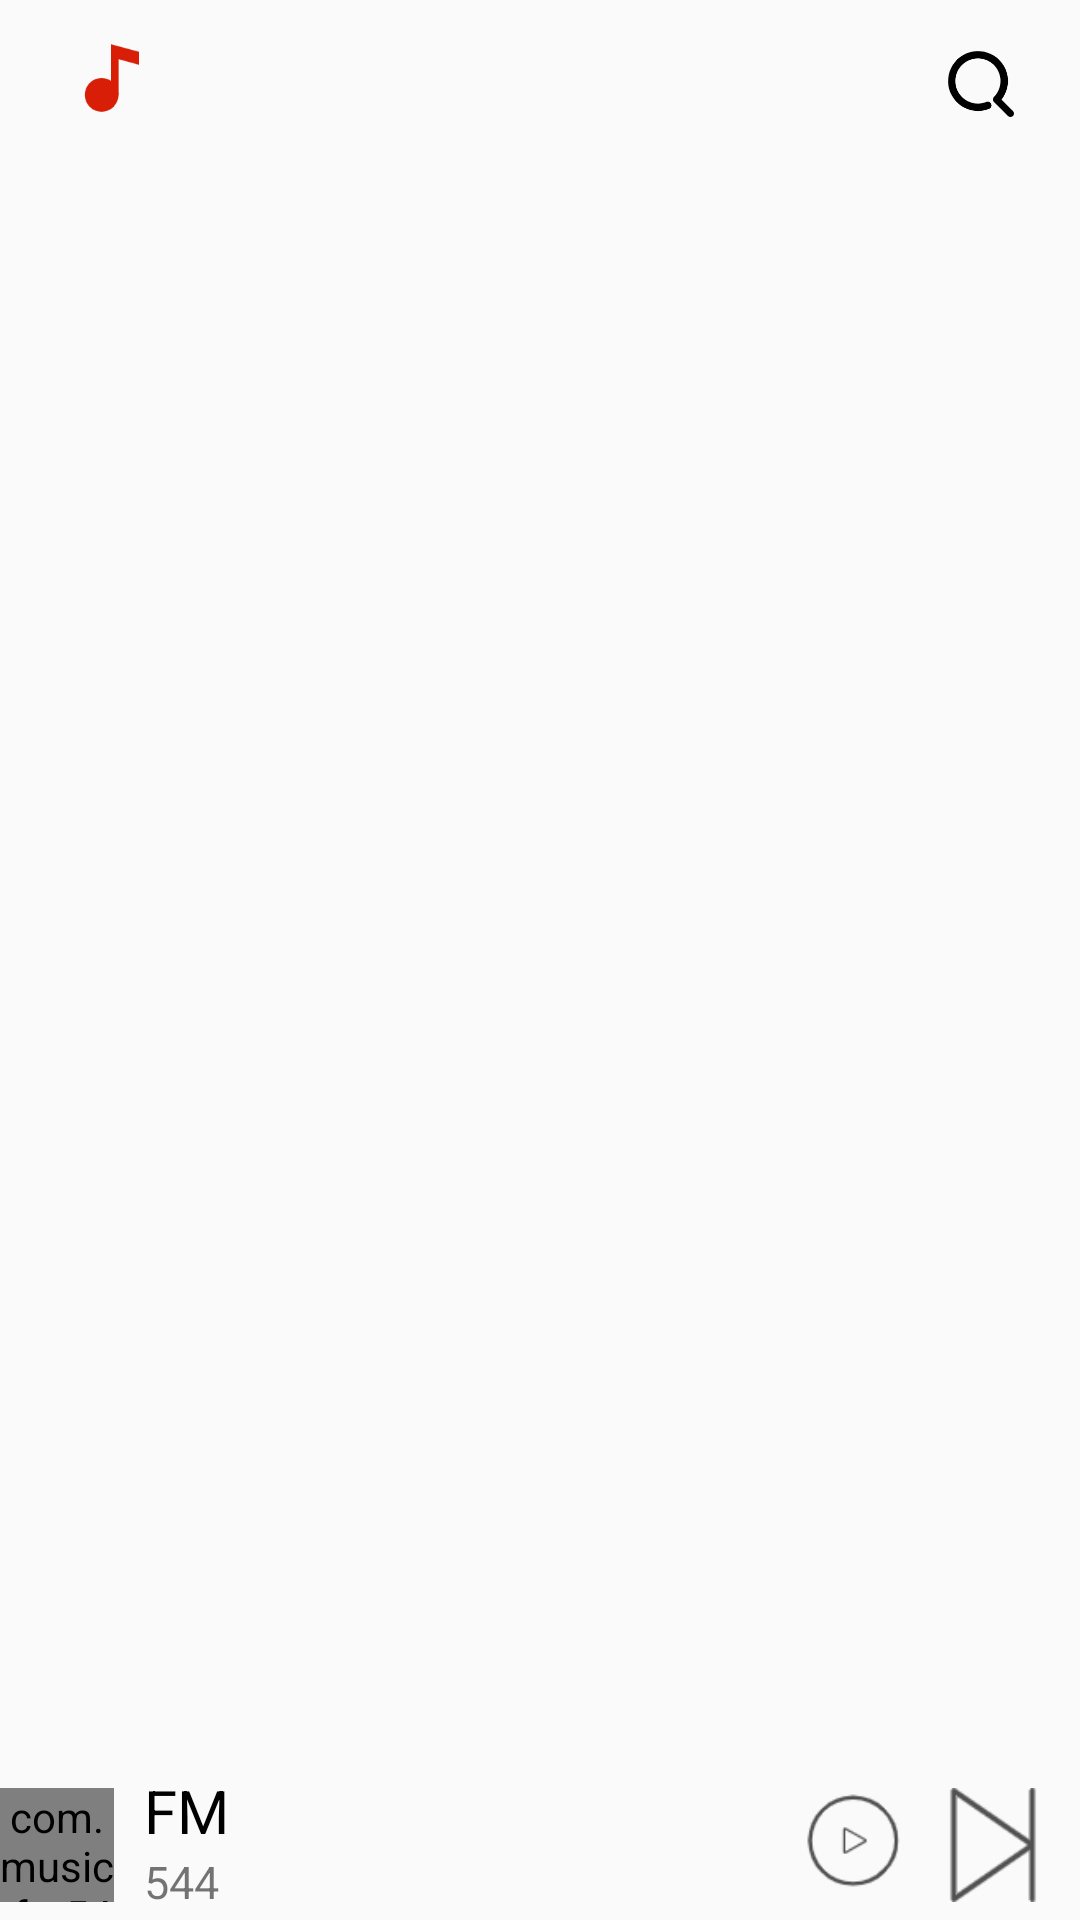

Where icons sit on this 1080×1920 app screen, as (x1, y1, x2, y2):
all play: (807, 1794, 899, 1887)
music: (84, 44, 139, 112)
next music: (950, 1788, 1036, 1902)
search: (948, 51, 1014, 117)
